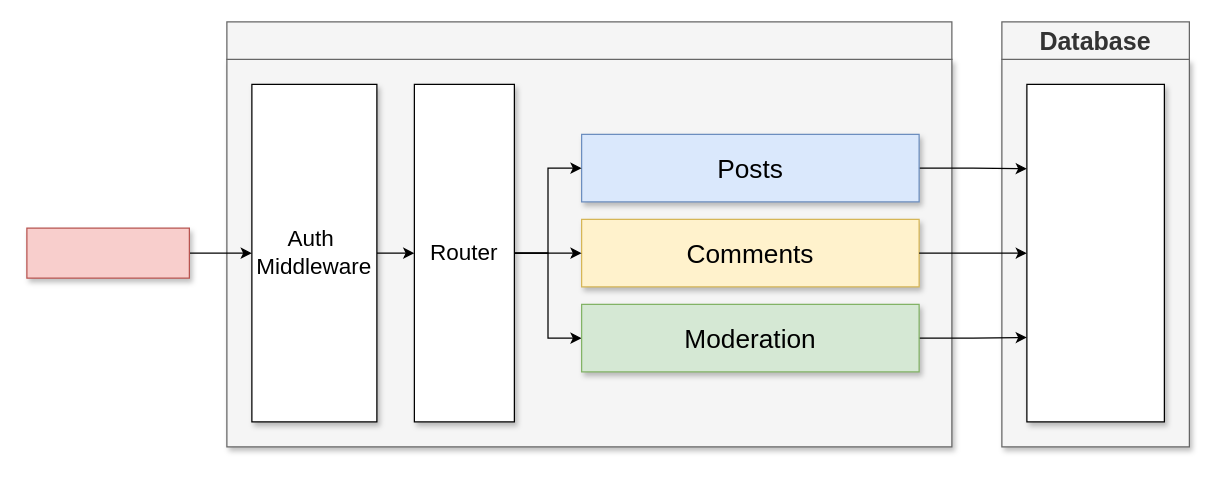
Some shapes in this 1219 by 478 pixel diagram are drawn without their labels. Each missing label, with the centre of its shape:
"Data" belongs at pixel 1096 254.
"Request" belongs at pixel 109 254.
"Server" belongs at pixel 589 40.
